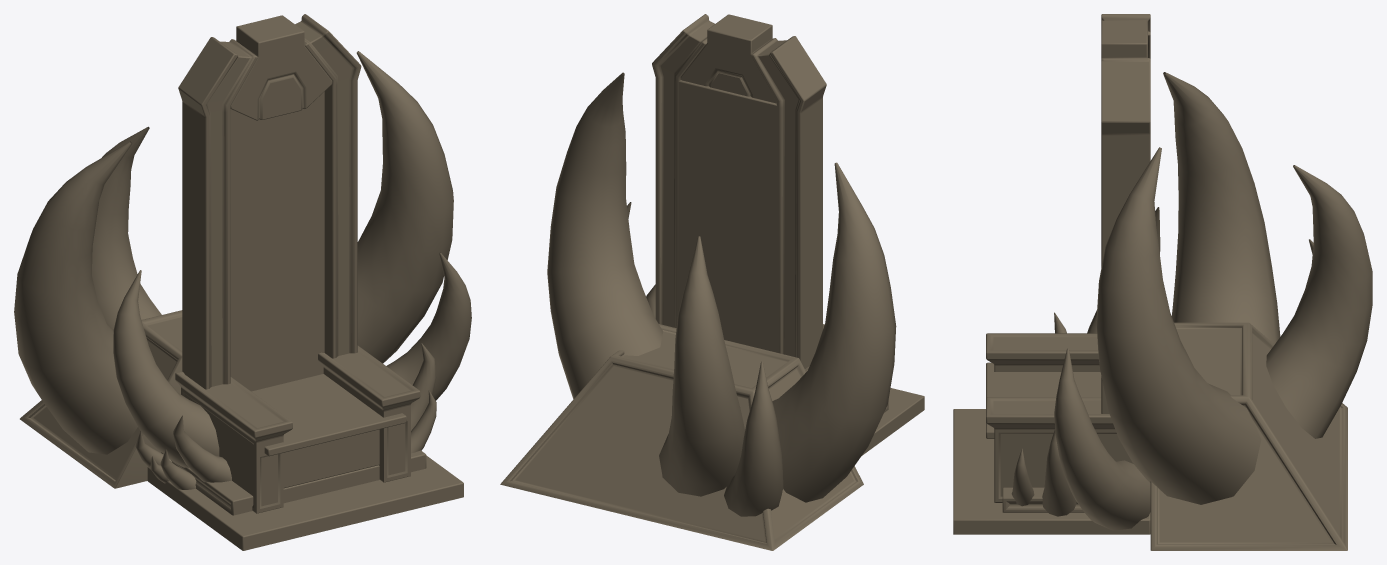
File: Throne.fbx
The picture shows the model from 3 angles, left to right: view 1: azimuth 30°, elevation 25°; view 2: azimuth 150°, elevation 25°; view 3: azimuth 270°, elevation 25°; orthographic projection. The views are drawn at different scales.
Parts seen in each view (by area): view 1: Plane.003; view 2: Plane.003; view 3: Plane.003.
Part boxes in pixels (box(x1,y1,x2,y2)): Plane.003: box(14, 14, 471, 550); Plane.003: box(500, 14, 924, 550); Plane.003: box(953, 14, 1372, 550).
Bounding box in the file's own units: 280 × 316 × 255.
